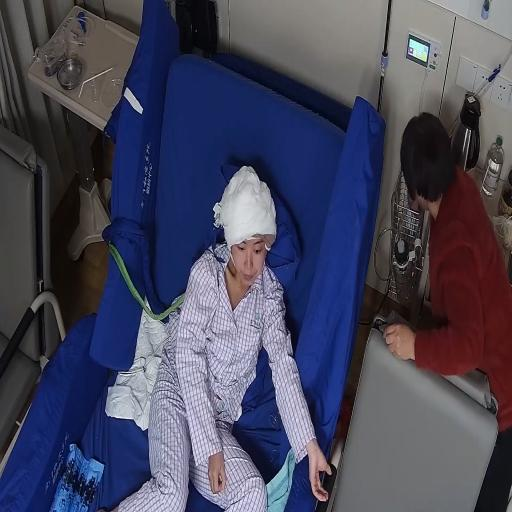Seizure: (227, 221, 276, 291)
